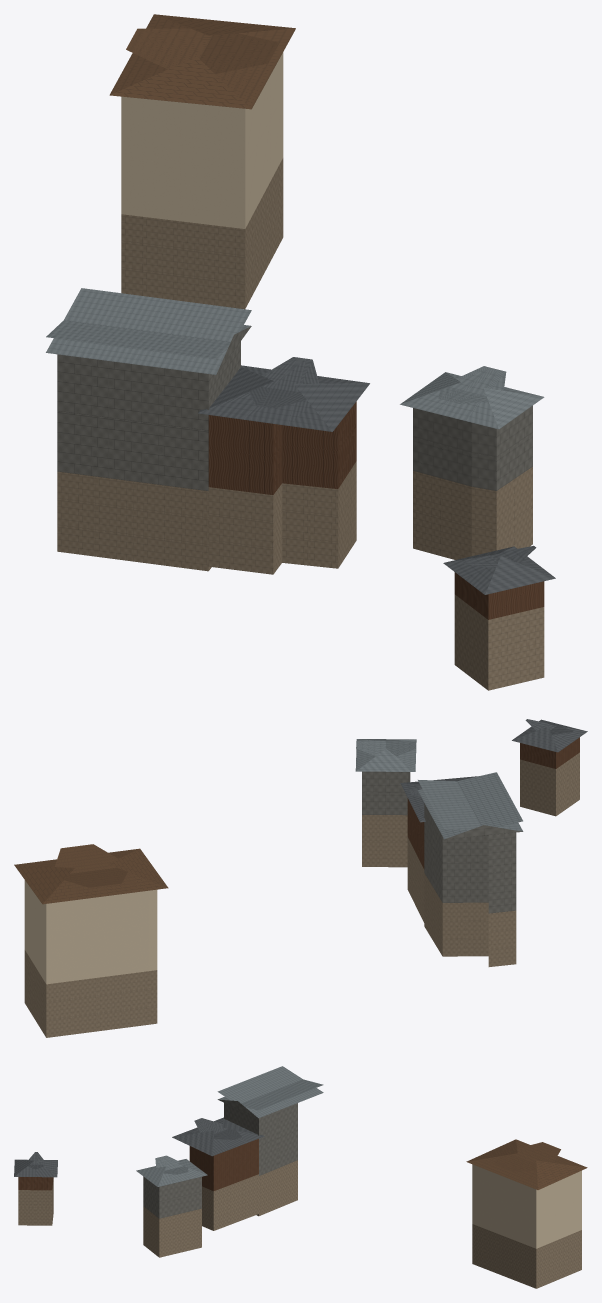
The model's file is bld_c10_17_437.gltf.
3 renders of one model, top to bottom at view 1: azimuth 30°, elevation 25°; view 2: azimuth 150°, elevation 25°; view 3: azimuth 270°, elevation 25°, orthographic. The views are drawn at different scales.
Parts seen in each view (by area): view 1: bld_c10_17_437; view 2: bld_c10_17_437; view 3: bld_c10_17_437.
Part boxes in pixels (x1,y1,x2,y2): bld_c10_17_437: (46, 14, 555, 690); bld_c10_17_437: (14, 719, 587, 1037); bld_c10_17_437: (14, 1066, 587, 1288).
Bounding box in the file's own units: 33.7 × 14.7 × 66.21.
Materials: 8 (8 with a texture image).
